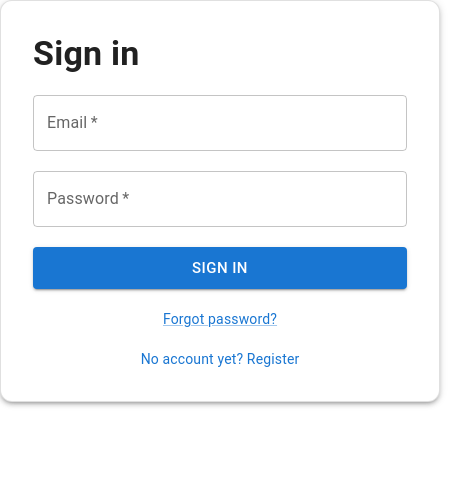
Test: login error messages › explains an unverified address for a 403
The image size is (460, 492).
Type "player@example.test" into the field labelled "Email *" at (220, 123), box [33,95,407,151]
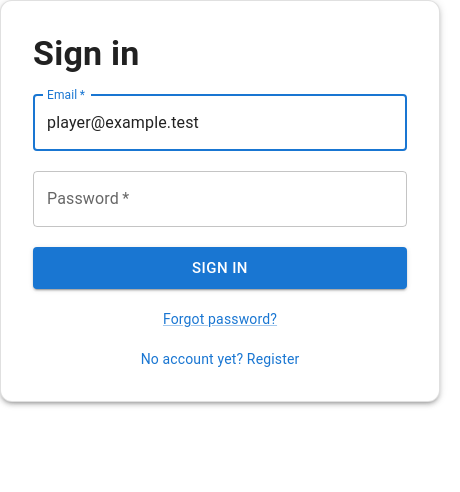
Type "whatever-password" into the password field labelled "Password *" at (220, 199), box [33,171,407,227]
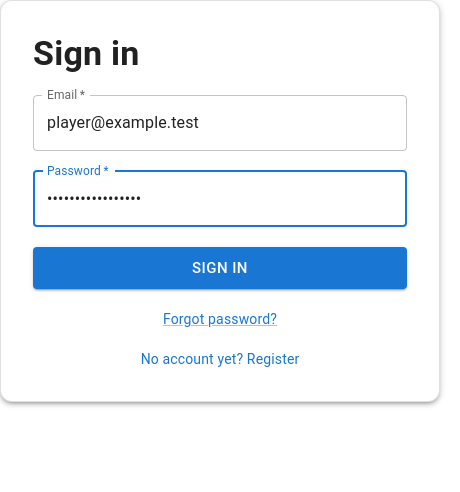
Click the button "Sign in" at (220, 268), box [33,247,407,289]
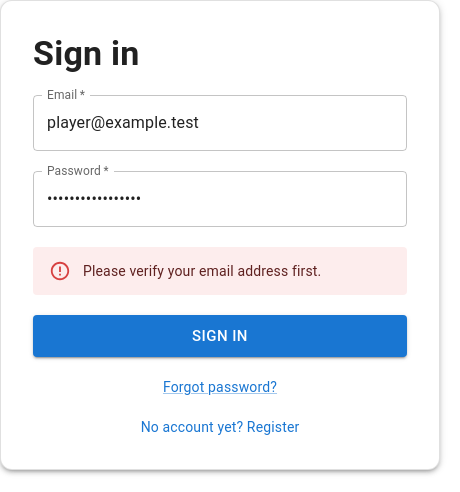
Expected: the message shows "verify your email address", [83,263,321,279]
